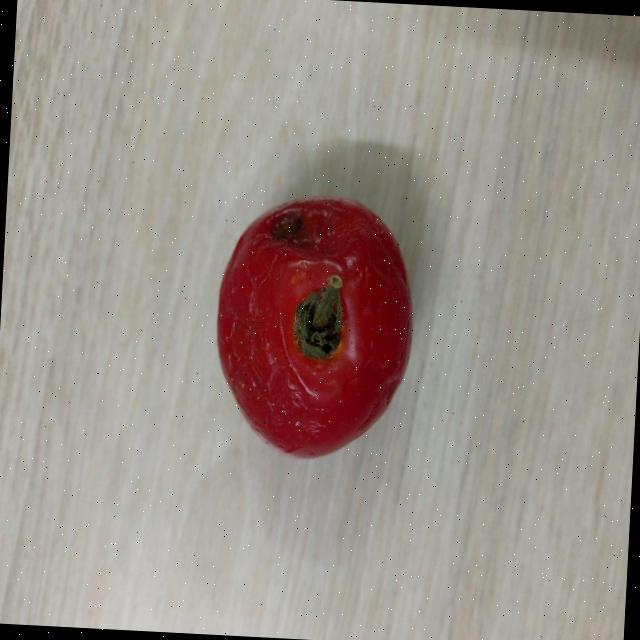Rotten: (208, 190, 418, 464)
